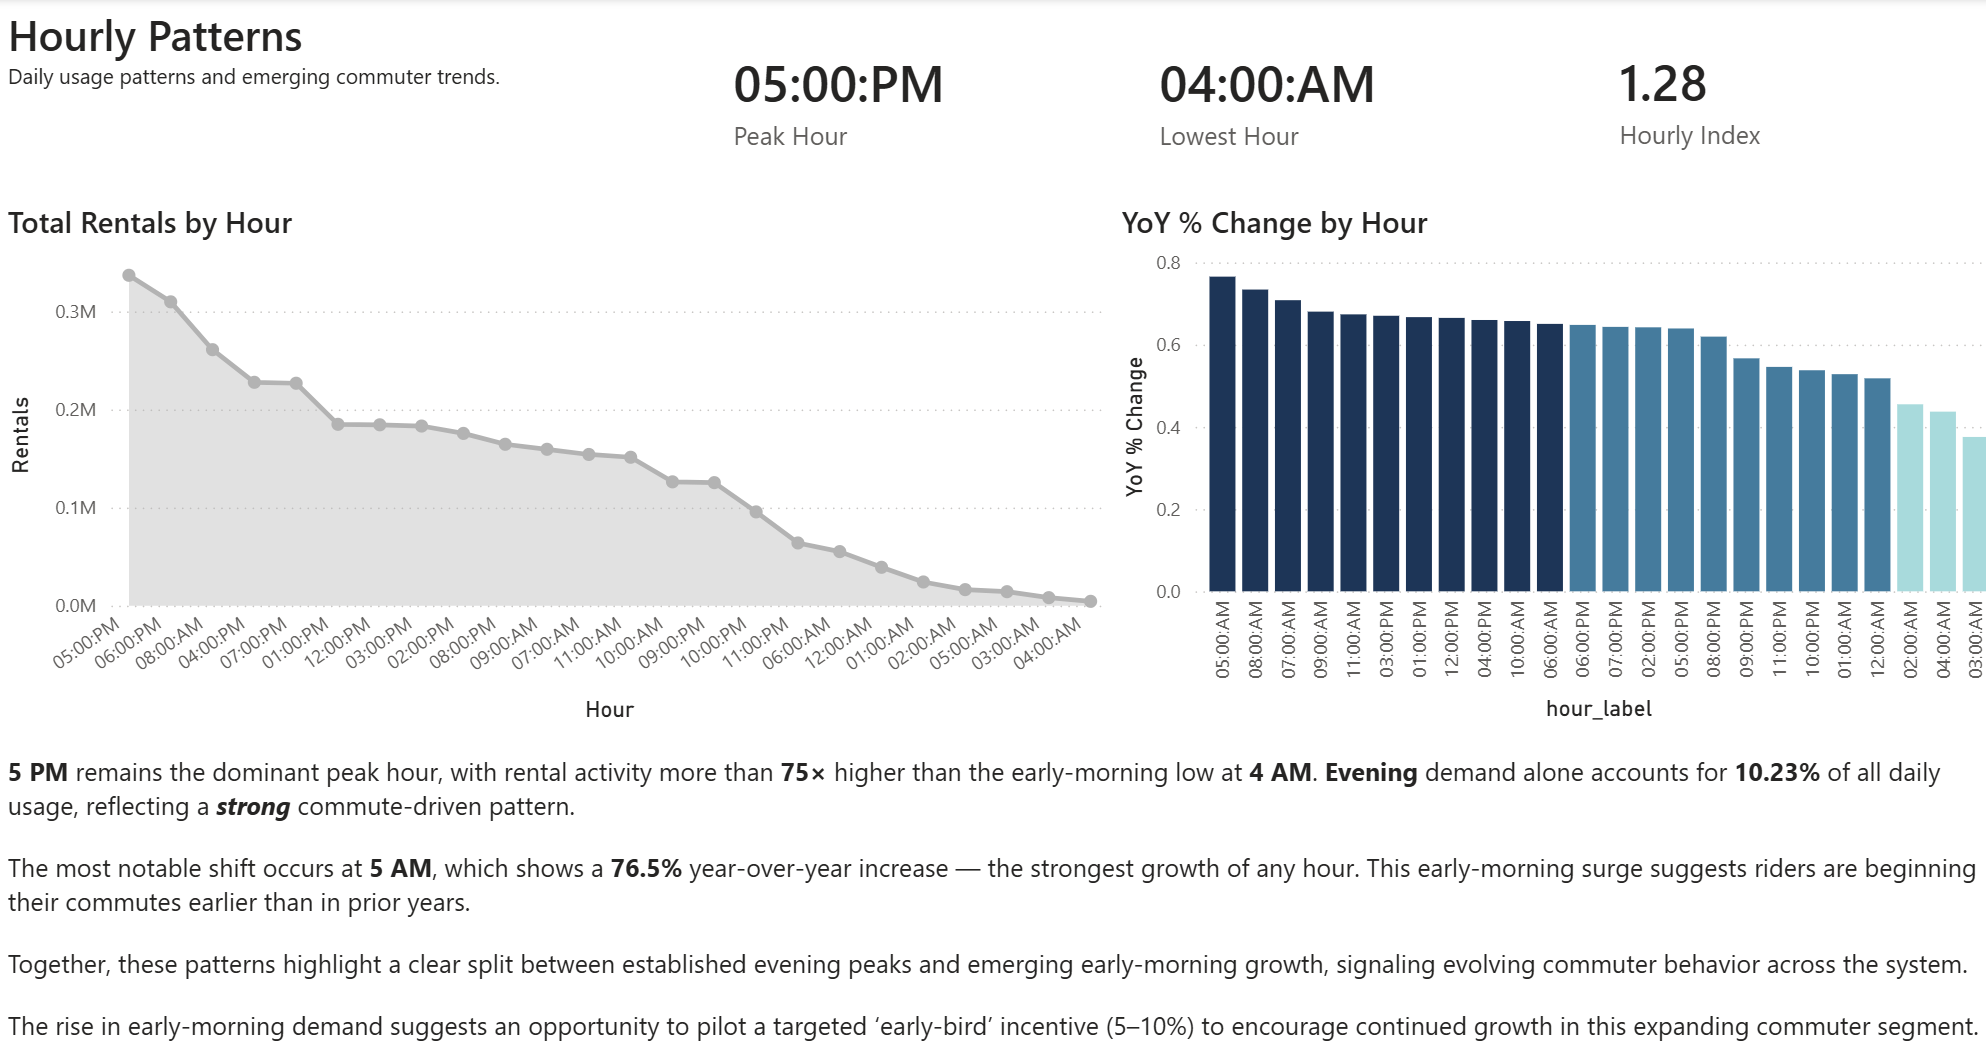

The page's visual inventory and layout, read from the dashboard file:
{"tool":"powerbi","page":{"name":"Hourly Patterns","canvas":[1280,720],"ordinal":2},"visuals":[{"type":"textbox","box":[0,0,438.9,129],"z":0},{"type":"cardVisual","fields":{"Data":["public view_fact_bike_rentals.Peak Hour"]},"box":[438.7,0,271.6,129.5],"z":1000},{"type":"cardVisual","fields":{"Data":["public view_fact_bike_rentals.Lowest Hour"]},"box":[710.3,0,293.9,129.5],"z":2000},{"type":"cardVisual","fields":{"Data":["public view_fact_bike_rentals.Hourly Index"]},"box":[1002.8,0,277.2,129],"z":3000},{"type":"lineChart","title":"Total Rentals by Hour","fields":{"Category":["public view_fact_bike_rentals.hour_label"],"Y":["public view_fact_bike_rentals.Total Rentals"]},"box":[0,128,712,408],"z":4000},{"type":"clusteredColumnChart","title":"YoY % Change by Hour","fields":{"Y":["public view_fact_bike_rentals.YoY % Change (by Hour)"],"Category":["public dim_hour.hour_label"]},"box":[712,128,568,408],"z":5000},{"type":"textbox","box":[0,536,1280,184],"z":6000}]}

Visuals, with their boxes on the page's 1280x720 design canvas (x1, y1, x2, y2). These are canvas units, not pixel positions in the 1986x1050 screenshot, which may show the page scaled, cropped or inside an application window:
textbox: 0, 0, 439, 129
cardVisual - public view_fact_bike_rentals.Peak Hour: 439, 0, 710, 130
cardVisual - public view_fact_bike_rentals.Lowest Hour: 710, 0, 1004, 130
cardVisual - public view_fact_bike_rentals.Hourly Index: 1003, 0, 1280, 129
"Total Rentals by Hour" lineChart: 0, 128, 712, 536
"YoY % Change by Hour" clusteredColumnChart: 712, 128, 1280, 536
textbox: 0, 536, 1280, 720
